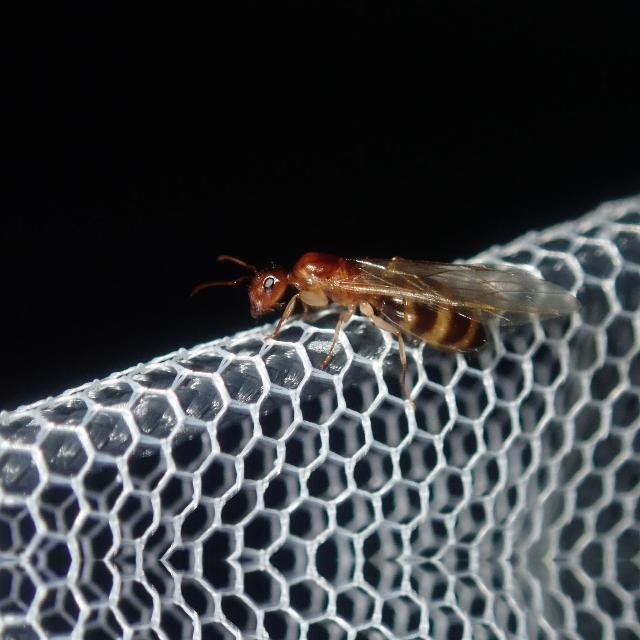Colobopsis: (202, 222, 540, 380)
